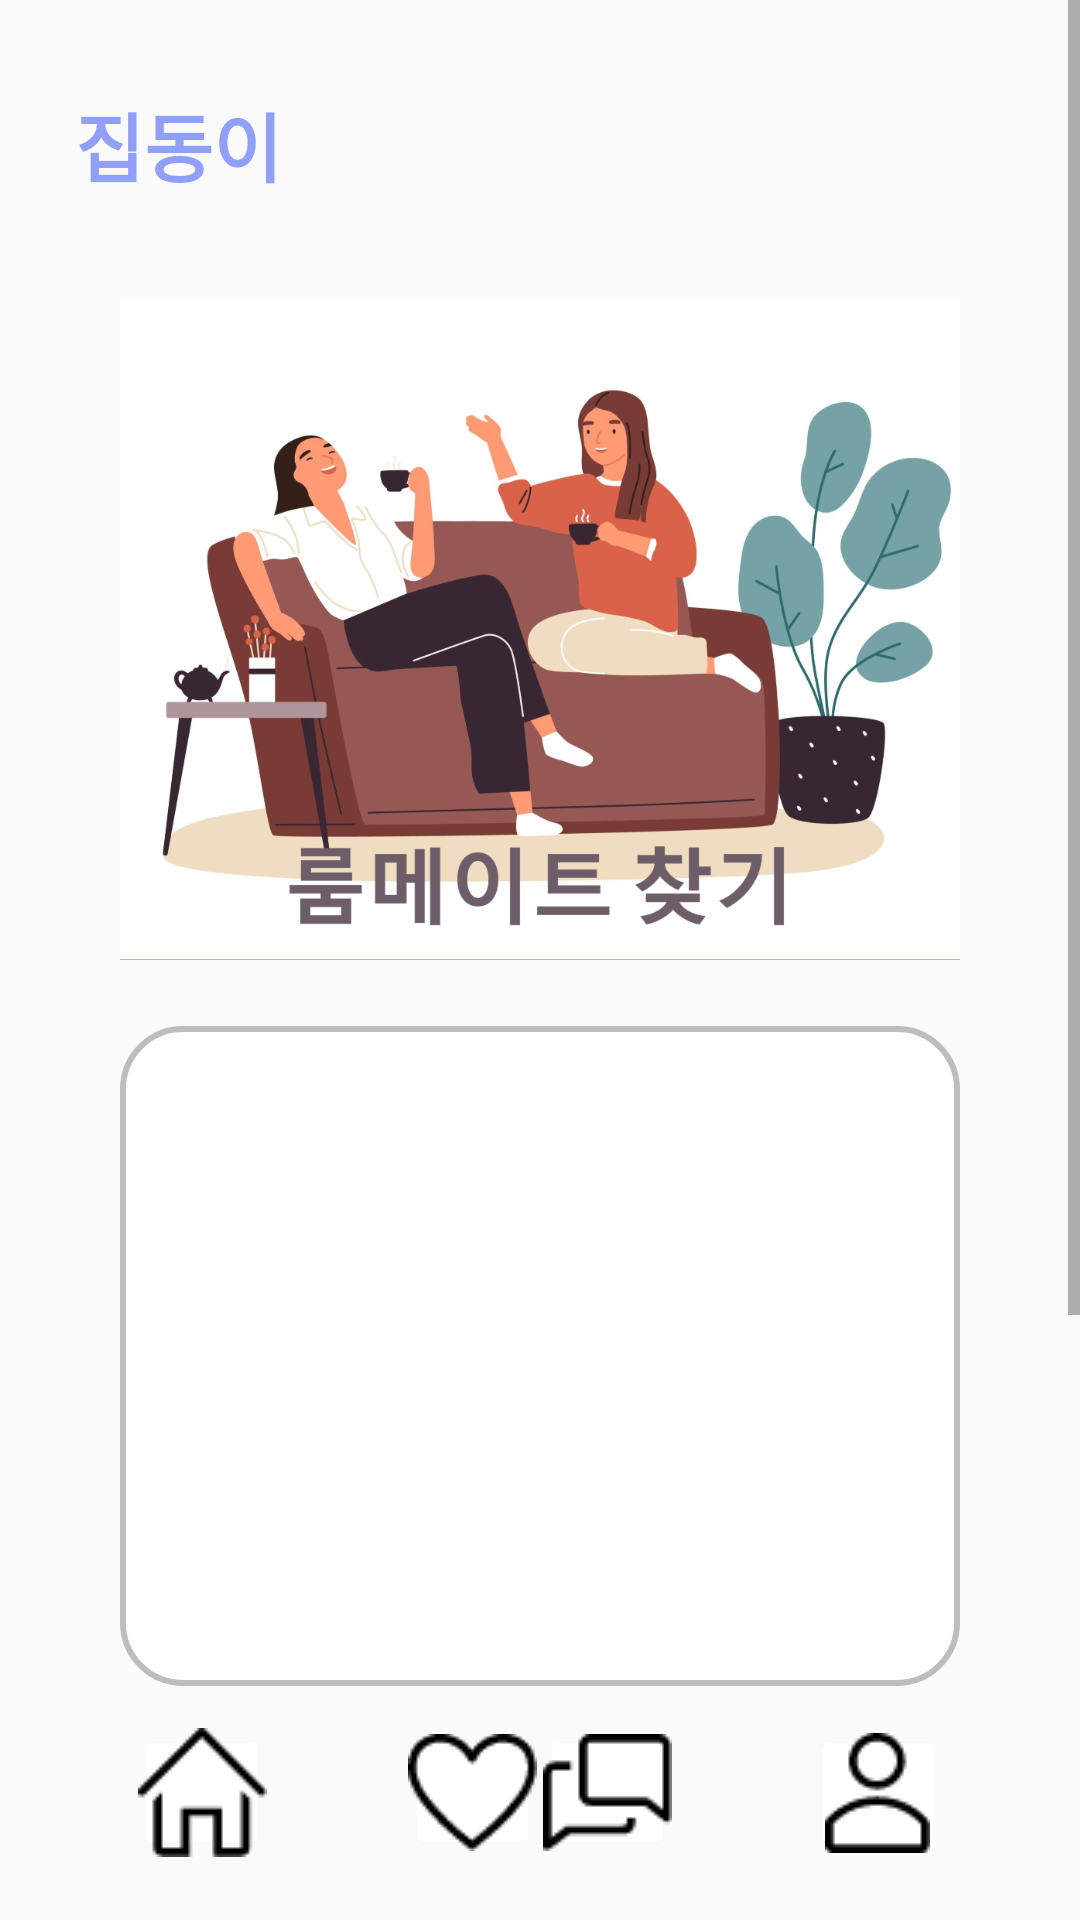

Icon bounding boxes for this 1080px×1920px phone screenshot, format (x1, y1, x2, y2):
heart line: (408, 1734, 537, 1851)
home line: (138, 1728, 267, 1857)
talk line: (543, 1734, 672, 1851)
